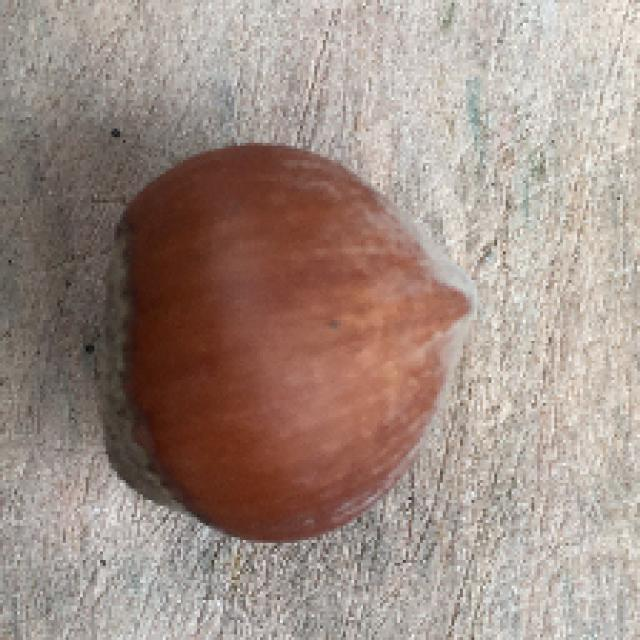qualityHazelnut: (90, 134, 479, 546)
